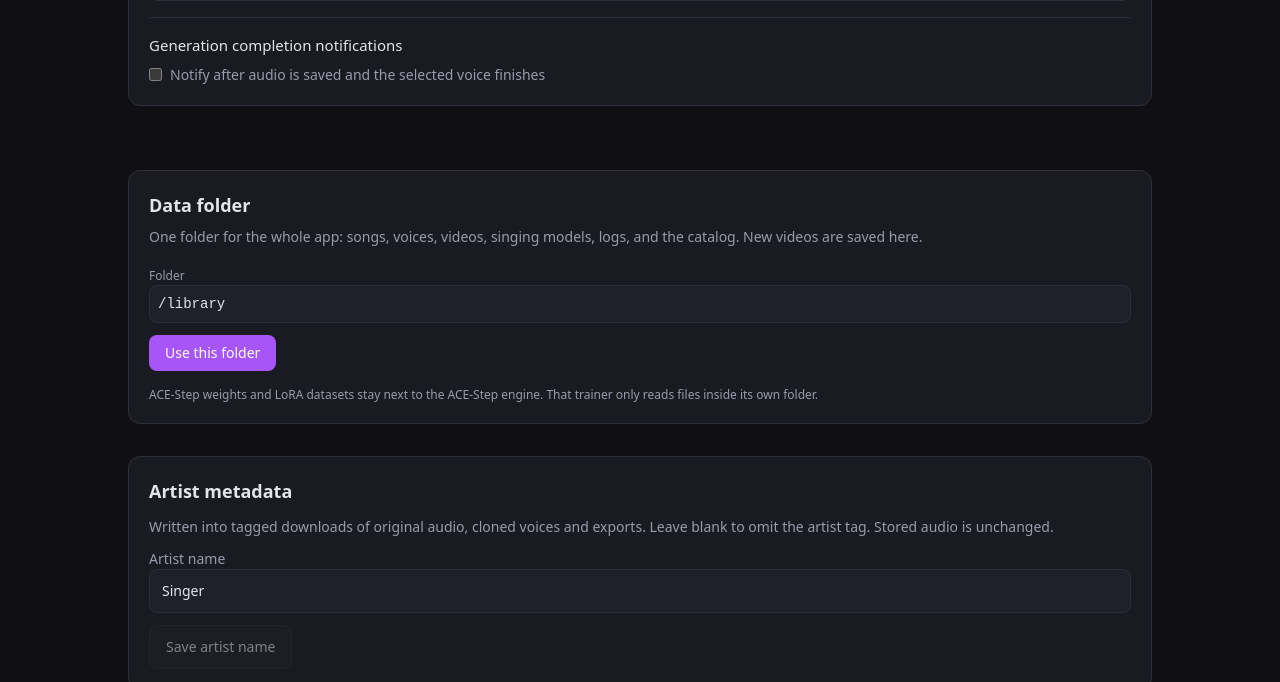
Test: keeps newer edits made while a captured artist name is saving
(page scrolled)
Replace the text in the field named "Artist name" with "Submitted" at (640, 591), box [149,569,1131,613]
(page scrolled)
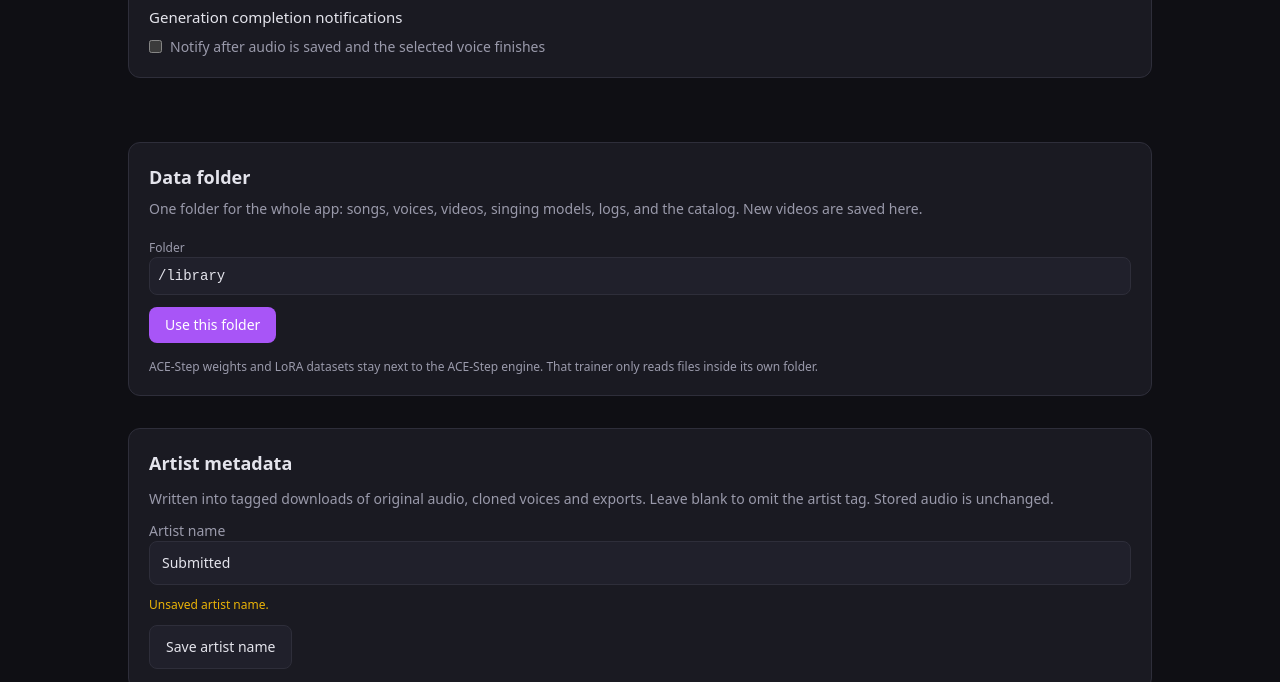
Click the button "Save artist name" at (221, 647), box [149,625,292,669]
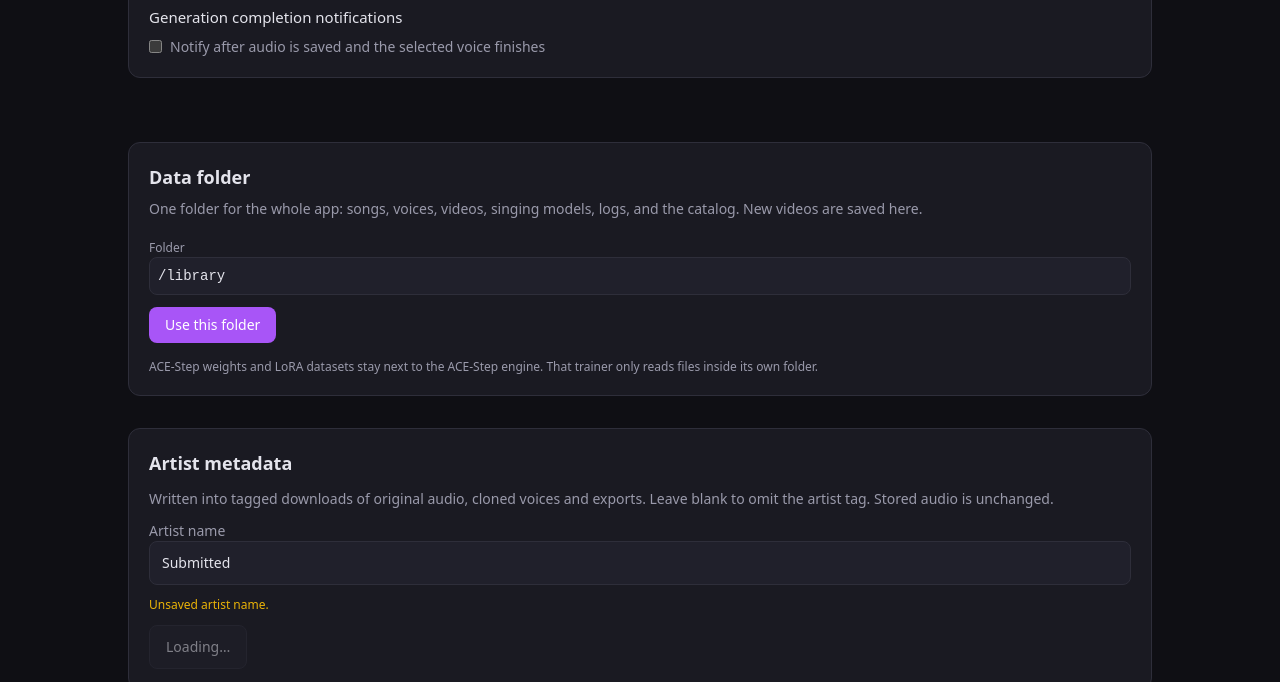
Replace the text in the field named "Artist name" with "Newer edit" at (640, 563), box [149,541,1131,585]
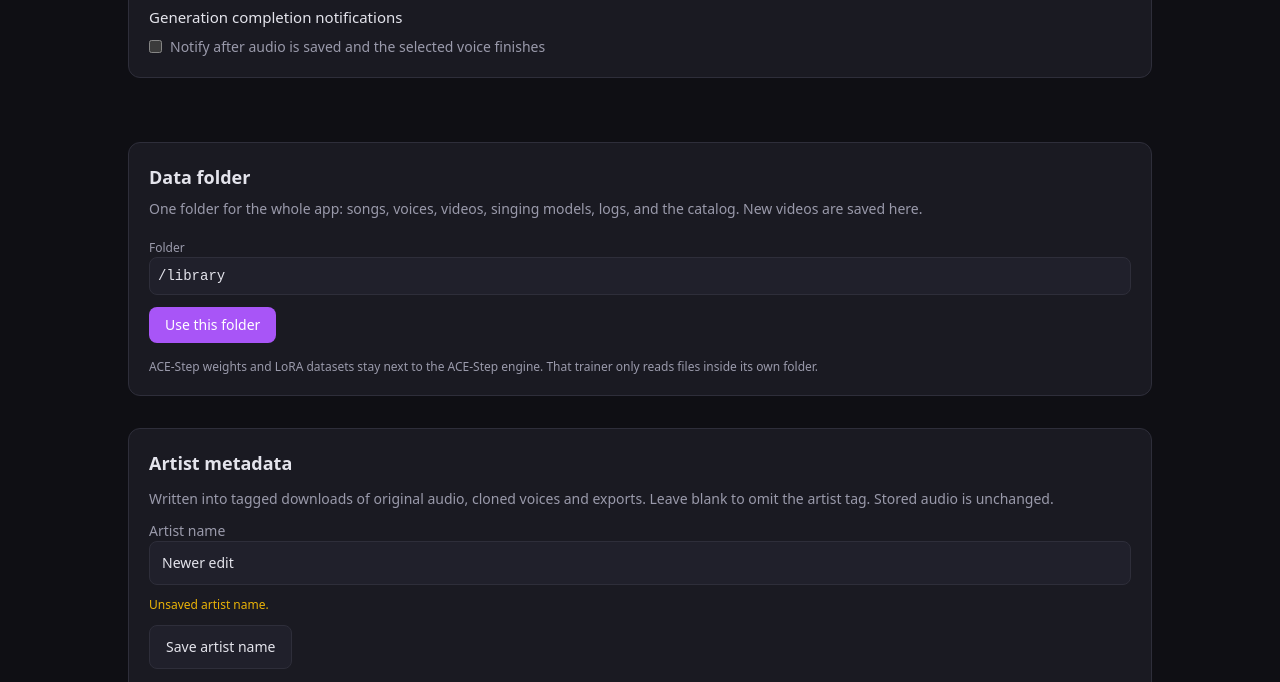
Expected: the button "Save artist name" is enabled, [149,625,292,669]
